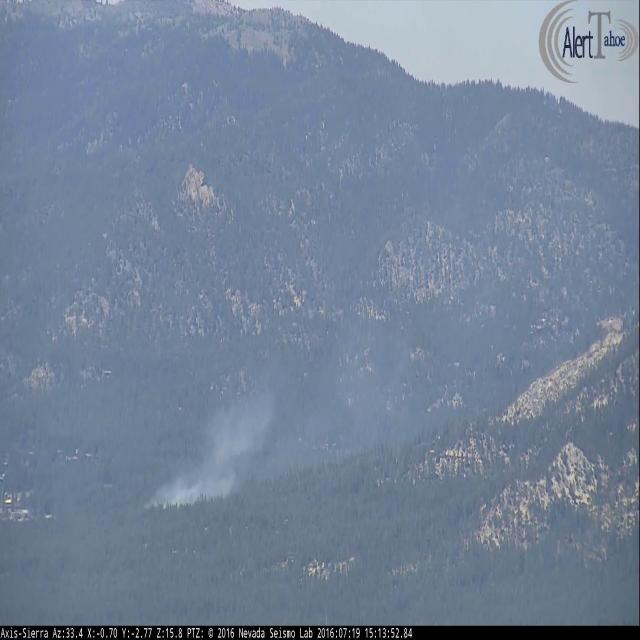smoke: (143, 253, 454, 513)
